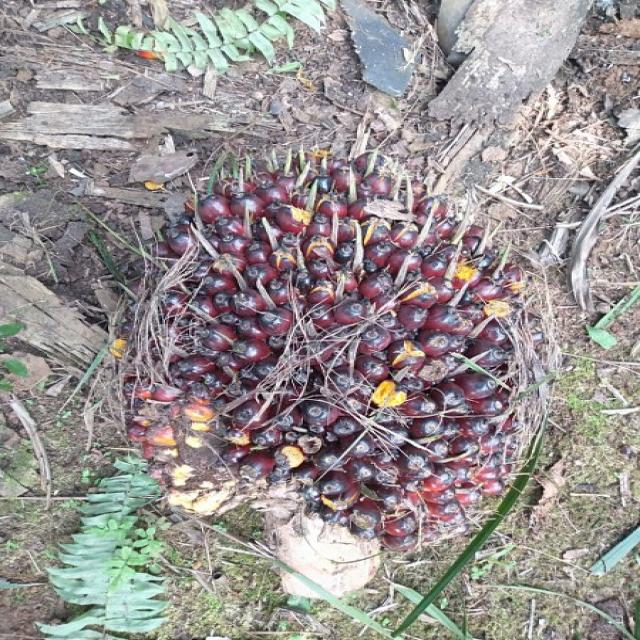fraksi 1: (71, 121, 604, 594)
